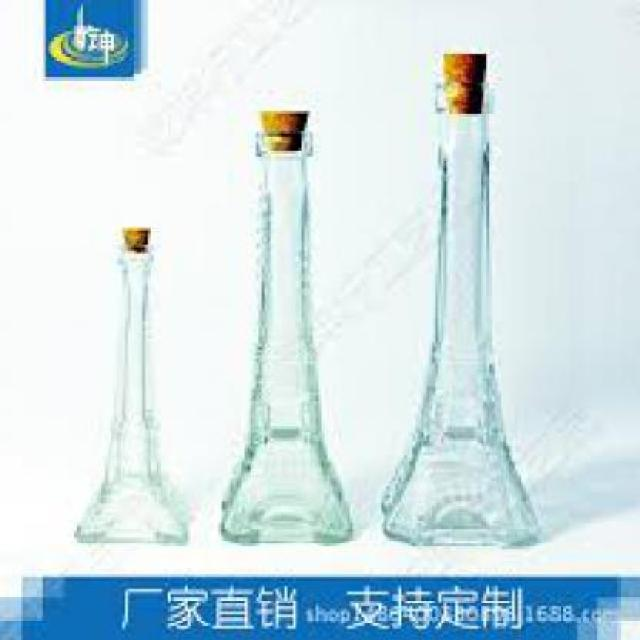kaca: (382, 80, 540, 546), (220, 126, 351, 539), (69, 248, 186, 540)
